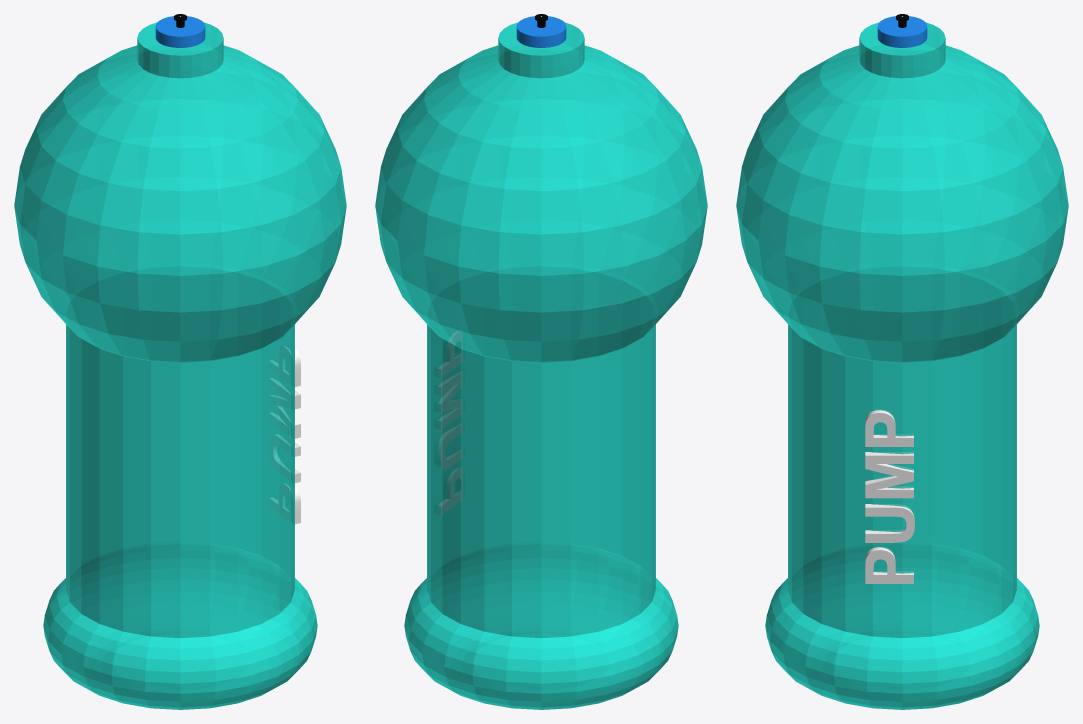
3 views of the same model, side by side, from view 1: azimuth 30°, elevation 25°; view 2: azimuth 150°, elevation 25°; view 3: azimuth 270°, elevation 25° (orthographic).
Parts seen in each view (by area): view 1: mesh5-geometry-0, mesh5-geometry-1, mesh3-geometry-0, mesh2-geometry-0, mesh1-geometry-0, mesh4-geometry-0; view 2: mesh5-geometry-0, mesh5-geometry-1, mesh3-geometry-0, mesh2-geometry-0, mesh4-geometry-0, mesh1-geometry-0; view 3: mesh5-geometry-0, mesh3-geometry-0, mesh2-geometry-0, mesh5-geometry-1, mesh4-geometry-0, mesh1-geometry-0.
Part boxes in pixels (x1,y1,x2,y2): mesh5-geometry-0: (14,22,346,709); mesh5-geometry-1: (155,16,205,47); mesh3-geometry-0: (269,378,300,438); mesh2-geometry-0: (269,434,300,483); mesh1-geometry-0: (269,484,300,524); mesh4-geometry-0: (269,346,300,386); mesh5-geometry-0: (375,22,707,709); mesh5-geometry-1: (516,16,566,47); mesh3-geometry-0: (438,371,462,429); mesh2-geometry-0: (438,423,462,469); mesh4-geometry-0: (438,330,462,377); mesh1-geometry-0: (438,468,462,514); mesh5-geometry-0: (736,22,1068,709); mesh3-geometry-0: (865,452,913,498); mesh2-geometry-0: (865,504,914,542); mesh5-geometry-1: (877,16,927,47); mesh4-geometry-0: (865,409,913,446); mesh1-geometry-0: (865,547,913,583).
Size of the model in its own units: 0.3876 by 0.8364 by 0.3876.
